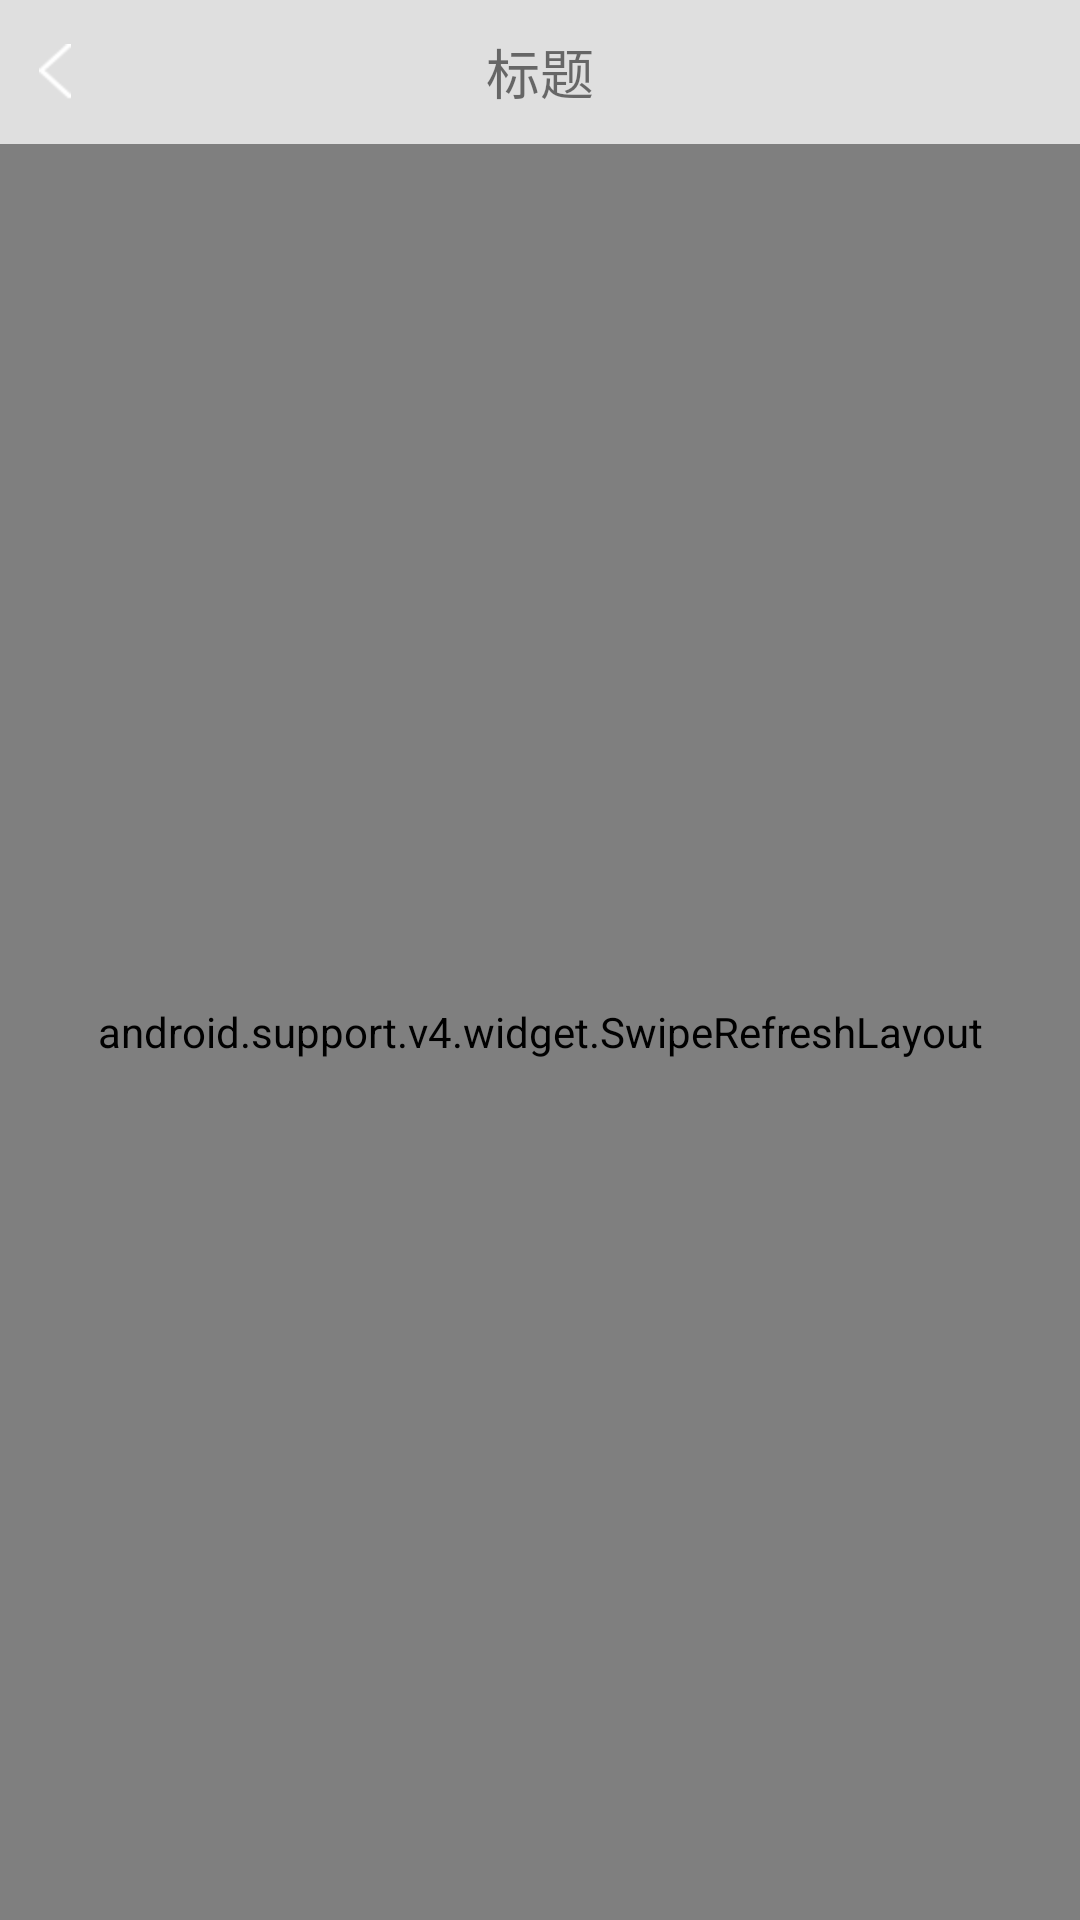

Locate icon controls on the screen. Image size 1080x1920, boxes as (x1,y1,x2,y2).
fanhui: (39,44,71,97)
